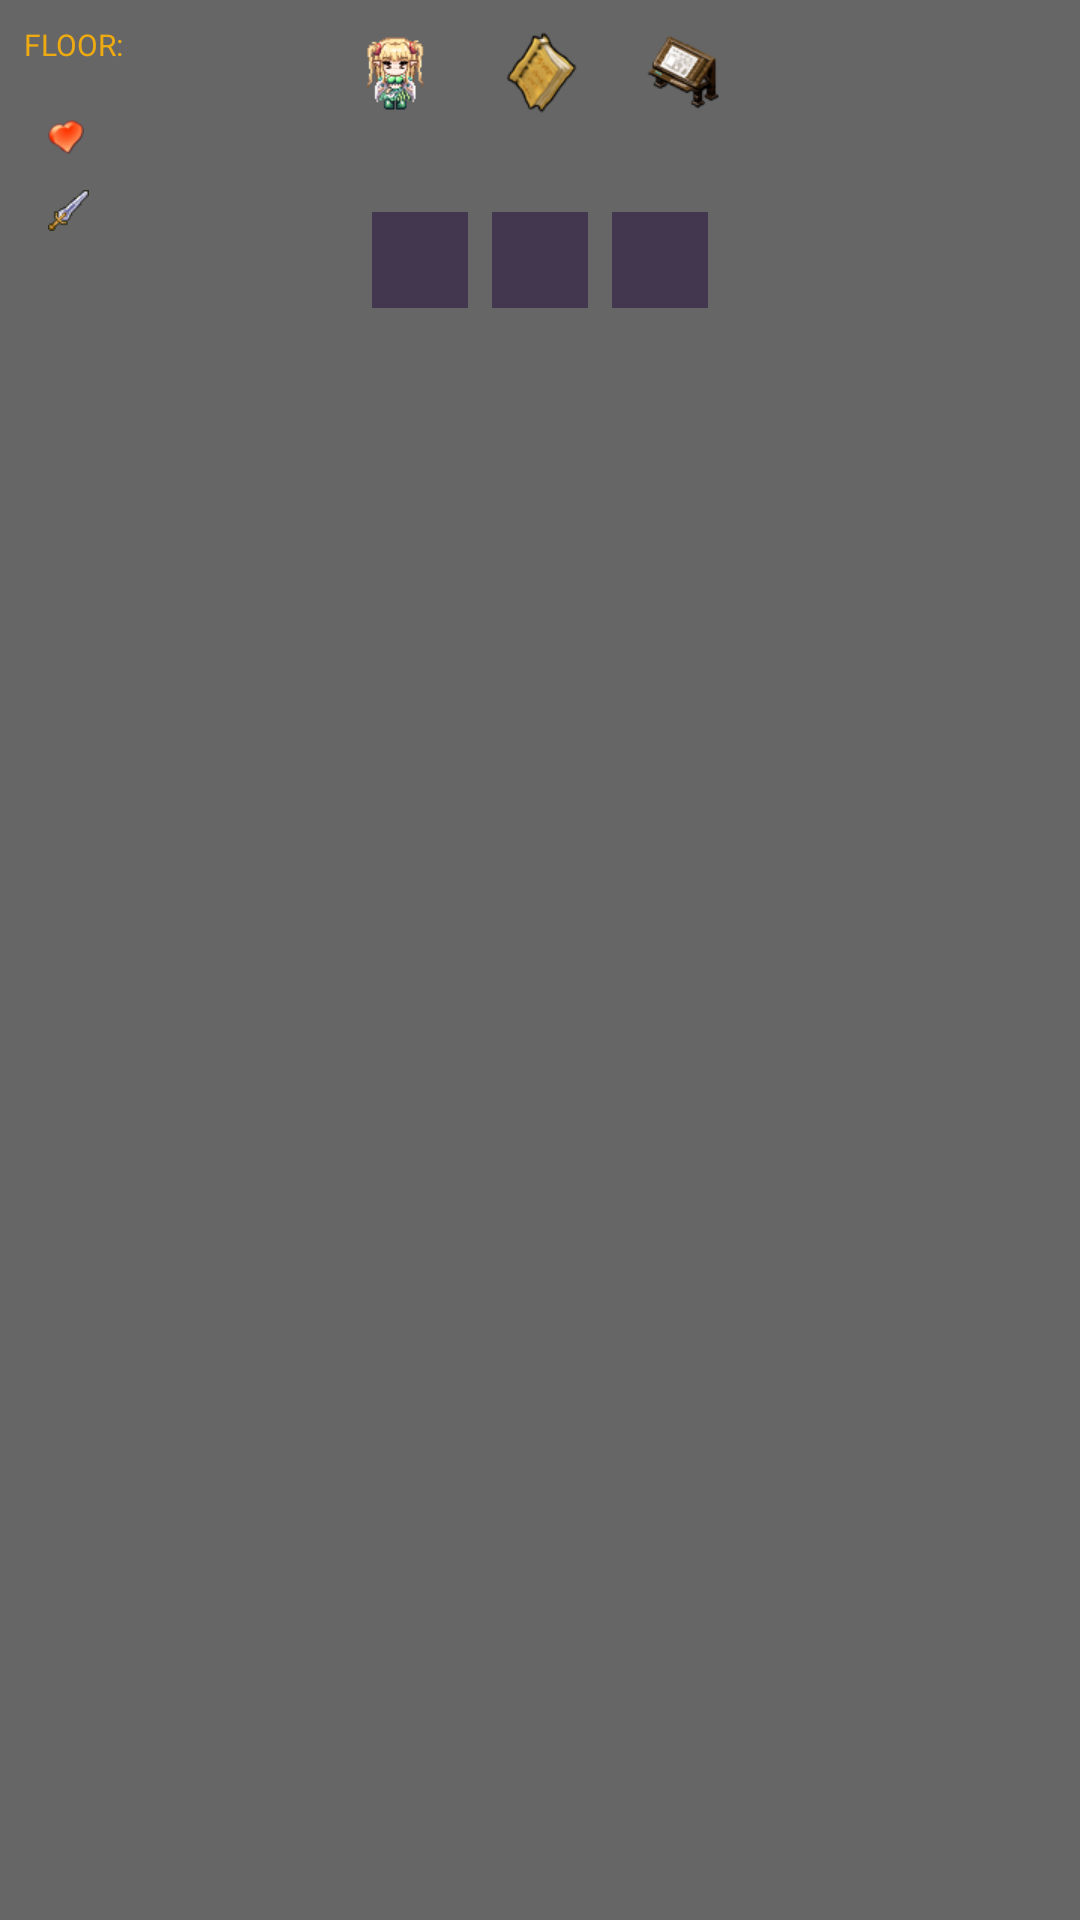

Screen size 1080 x 1920. Icon name, then its box in pixels as (left=x1, top=y1, right=x2, bottom=y2):
person: (left=367, top=37, right=423, bottom=110)
